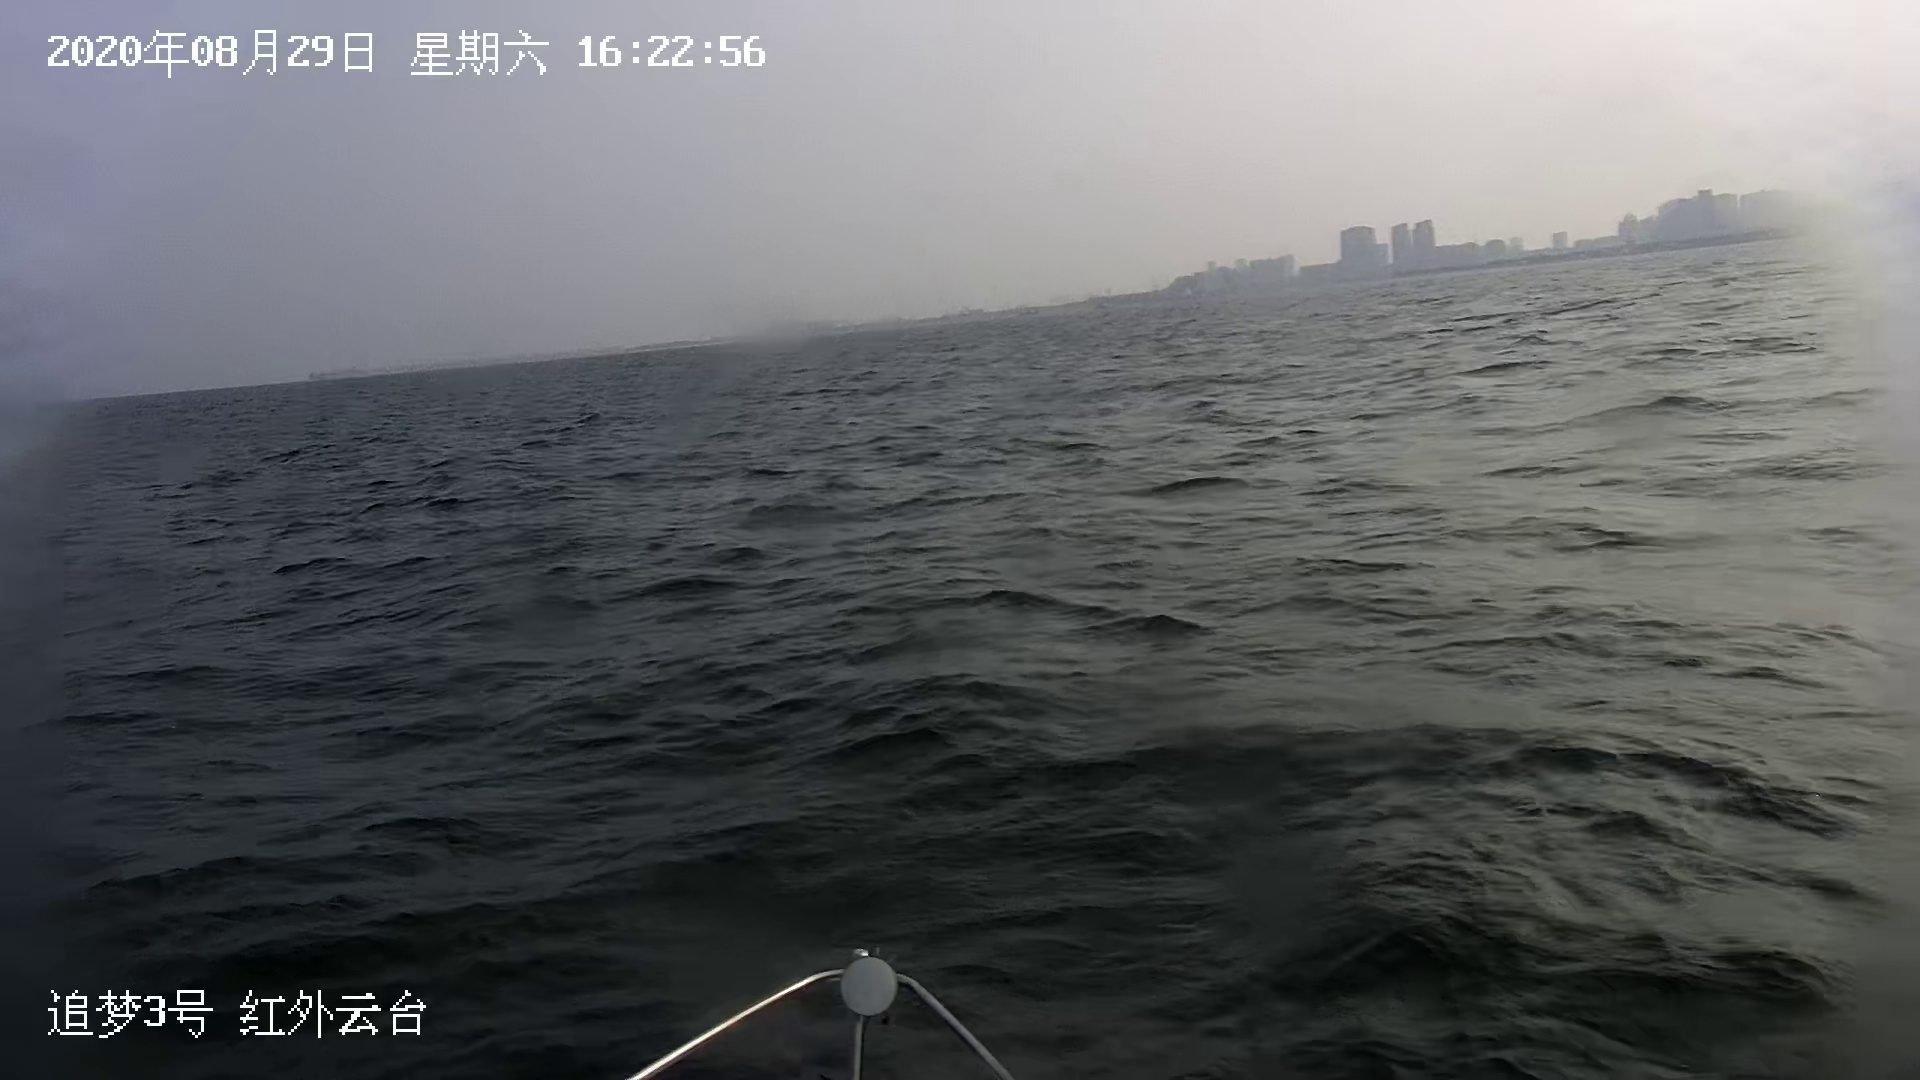coast: (309, 179, 1869, 389)
